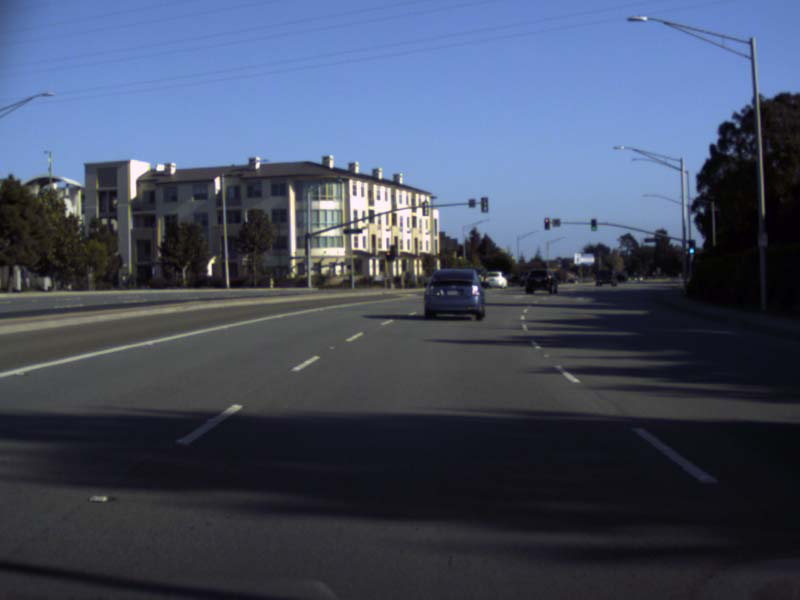Green: (590, 219, 597, 231), (688, 240, 694, 253)
Red: (544, 217, 549, 230)
